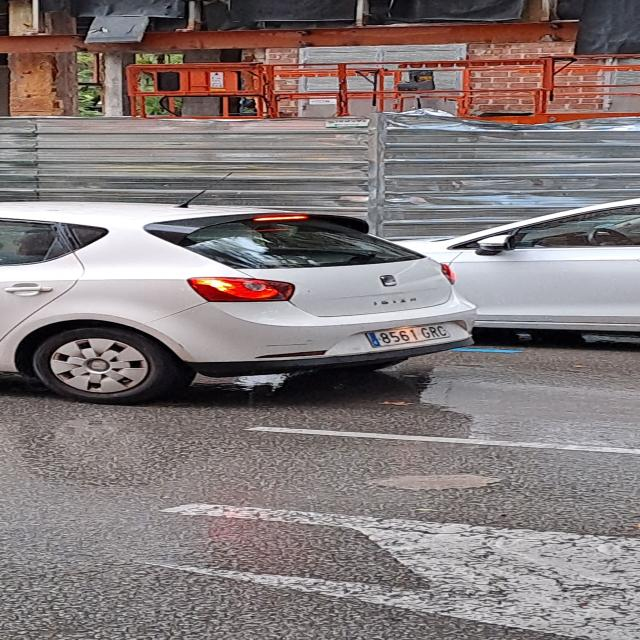license_plate-34Td: (365, 323, 452, 348)
